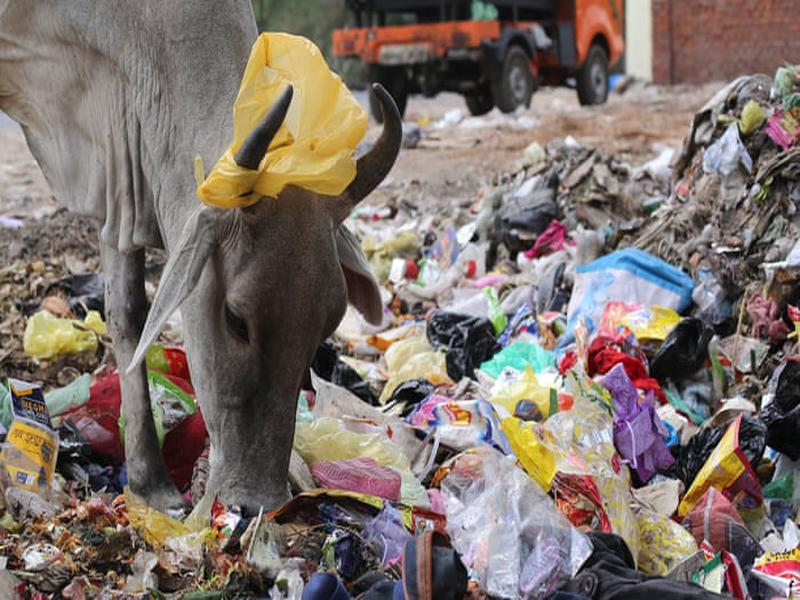paper: (676, 411, 768, 528)
plastic: (196, 30, 368, 206), (427, 456, 591, 600), (562, 245, 694, 329), (404, 394, 527, 462), (413, 308, 502, 385), (293, 415, 402, 470), (377, 330, 447, 403), (18, 308, 102, 361), (647, 314, 710, 379), (479, 342, 559, 374)
